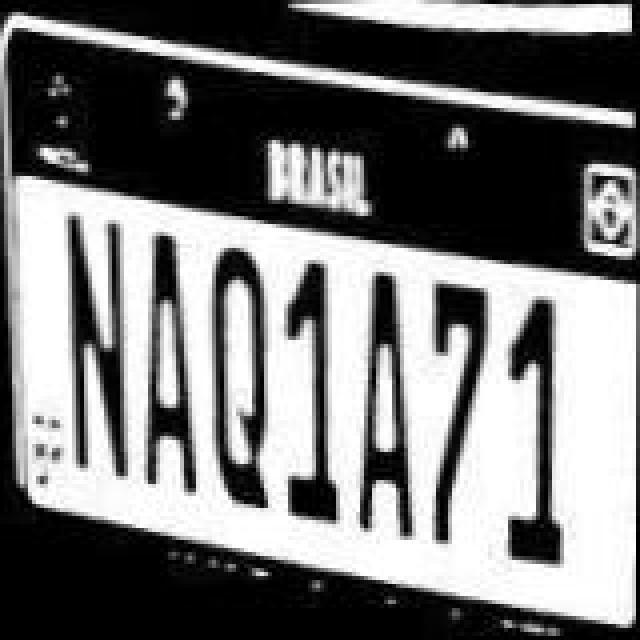1: (500, 272, 576, 576), (278, 254, 346, 530)
7: (428, 258, 504, 554)
A: (128, 220, 208, 512), (350, 250, 426, 546)
N: (52, 208, 132, 504)
Q: (206, 234, 274, 514)
